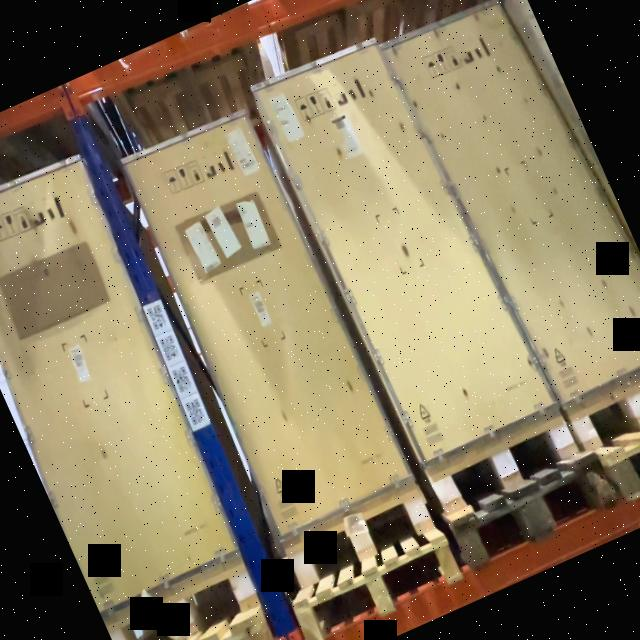box: (256, 34, 559, 464), (121, 111, 412, 530)
